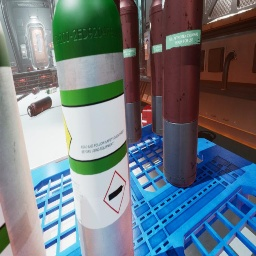0: (52, 0, 134, 256), (0, 21, 47, 256), (44, 87, 57, 94)
EmergencyPhone ,: (51, 41, 54, 47)
FireAlarm ,: (49, 44, 52, 48)
FirstAidBox ,: (142, 105, 152, 127), (27, 66, 34, 72)
NitrogenTank ,: (162, 0, 203, 187), (120, 0, 142, 144), (149, 0, 162, 135), (27, 96, 52, 117), (113, 0, 120, 18), (32, 86, 40, 95), (49, 82, 59, 88), (37, 66, 45, 70)
SafetySwitchPanel ,: (144, 31, 150, 60), (20, 44, 28, 59)
